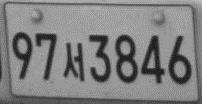3: (88, 34, 111, 82)
4: (140, 34, 166, 84)
6: (167, 34, 192, 84)
7: (34, 32, 57, 80)
8: (114, 33, 138, 82)
9: (11, 31, 32, 79)
서: (62, 41, 84, 82)
